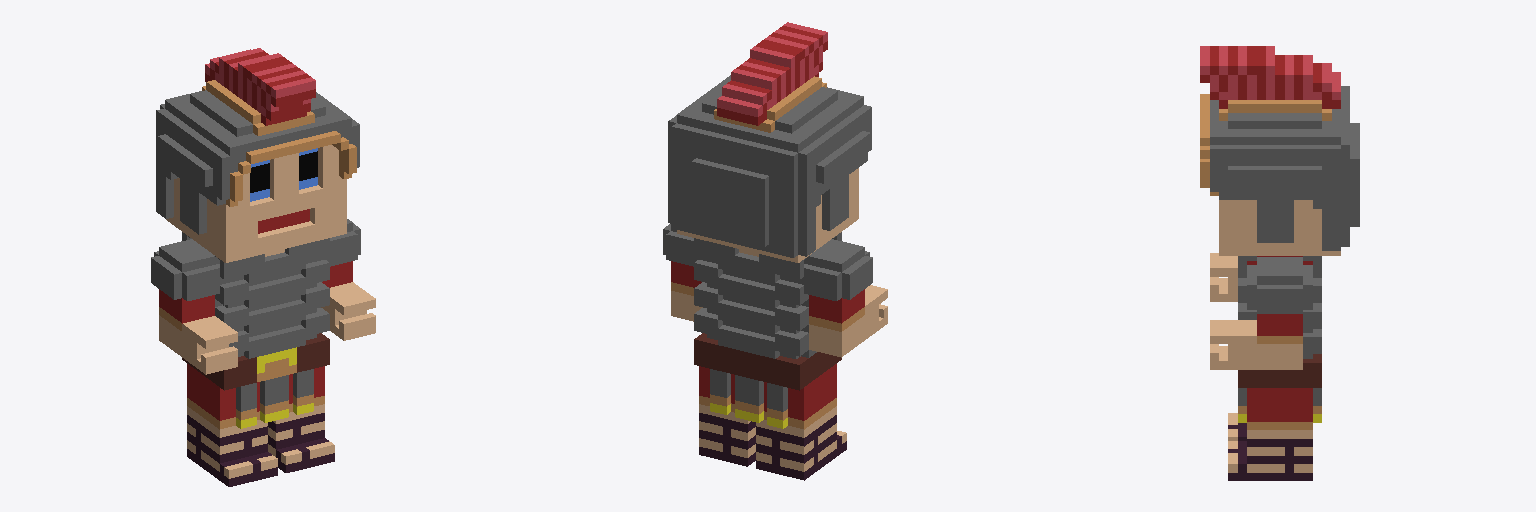
3 renders of one model, left to right at view 1: azimuth 30°, elevation 25°; view 2: azimuth 150°, elevation 25°; view 3: azimuth 270°, elevation 25°, orthographic.
Bounding box in the file's own units: 23 × 47 × 17.
Materials: 1 (1 with a texture image).